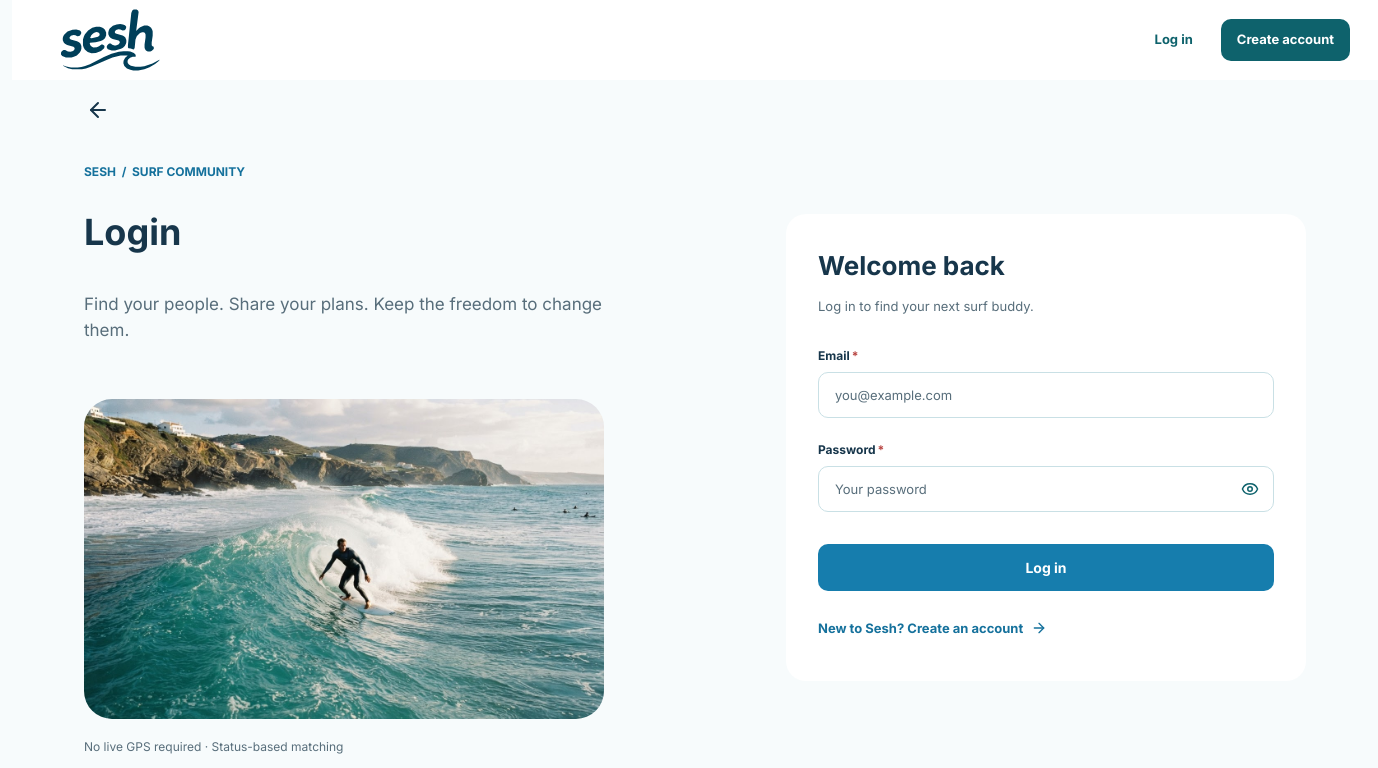
Test: Login page › users without a surfer profile go to Create Profile after login (also with returnTo)
Check: the heading "Welcome back" is shown, box x1=818 y1=250 x2=1005 y2=281
Type "surfer@example.com" into the field labelled "Email*" at (1046, 395), box x1=818 y1=372 x2=1274 y2=418
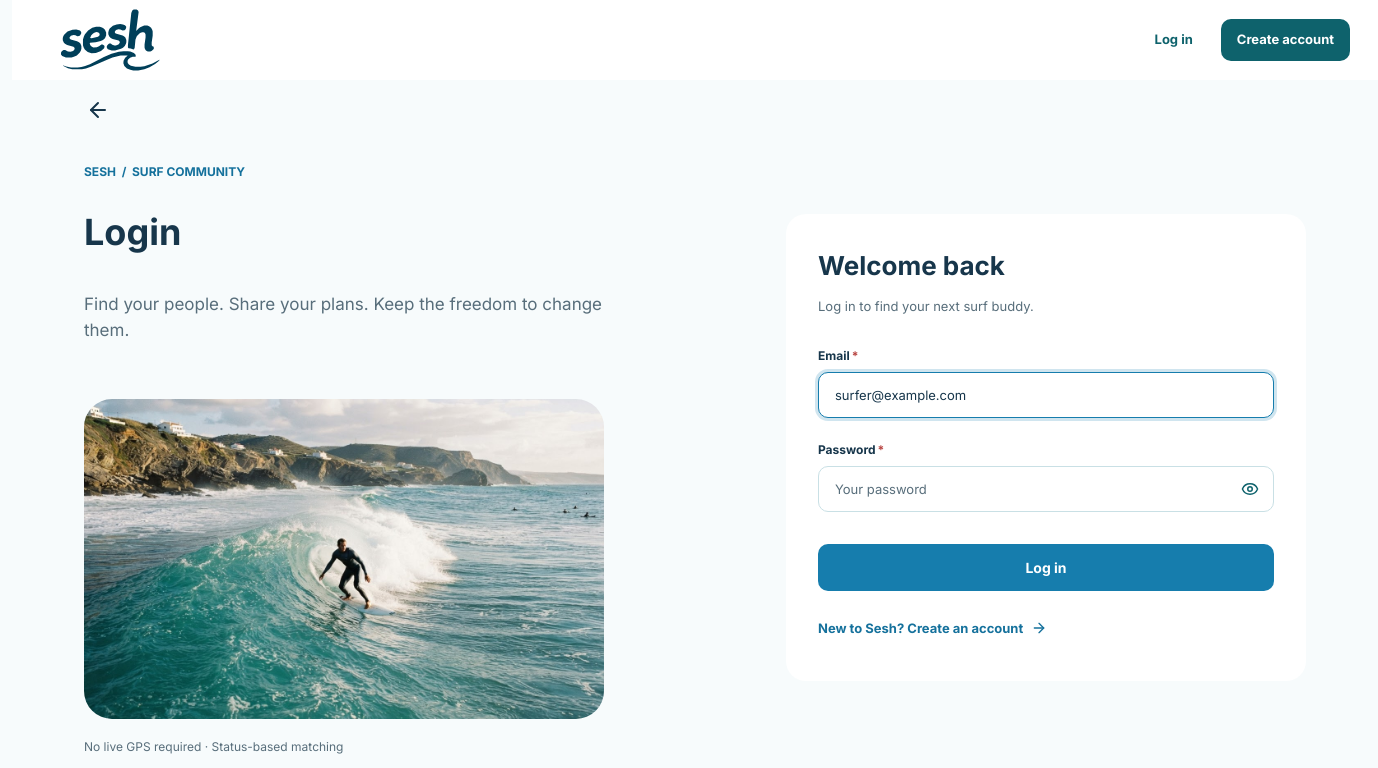
Type "correct horse battery" into the password field labelled "Password*" at (1046, 489), box x1=818 y1=466 x2=1274 y2=512
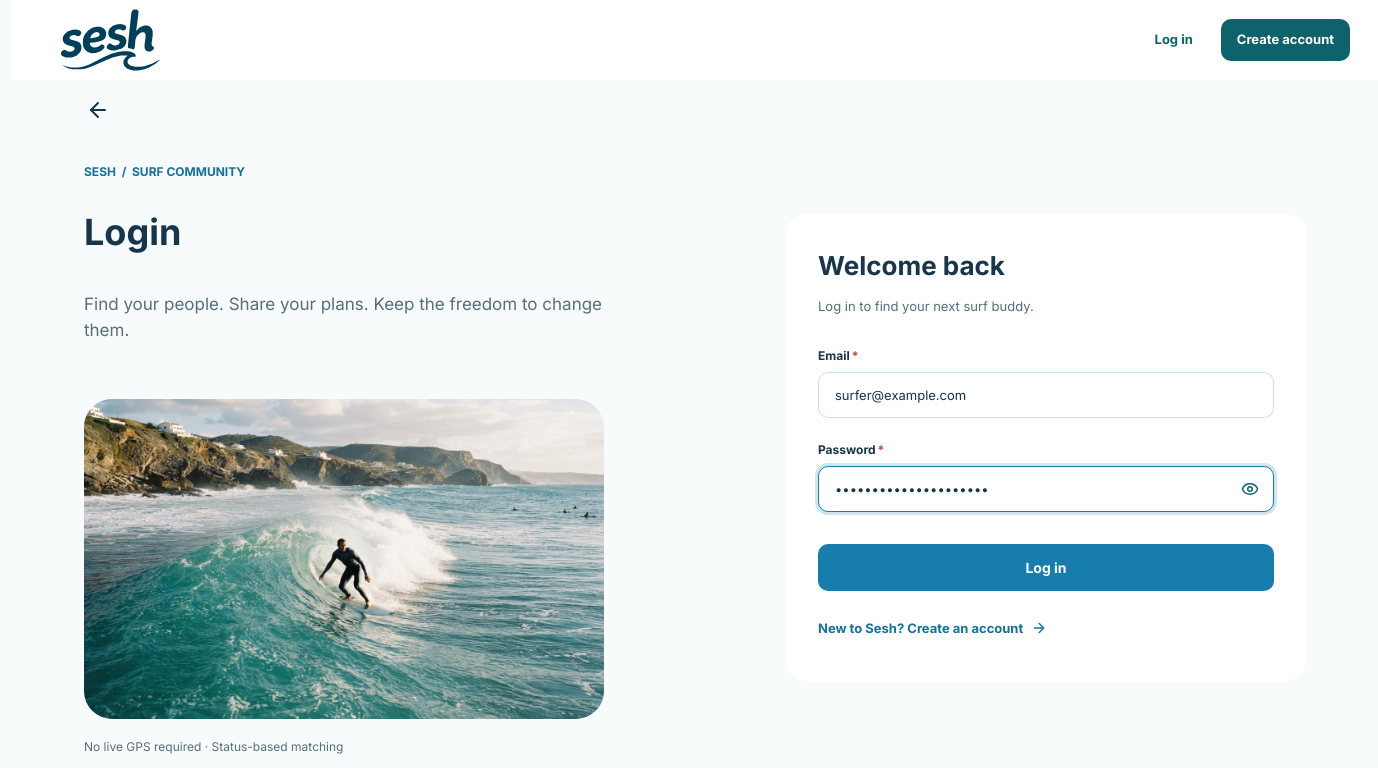
Click the button "Log in" at (1046, 568), box x1=818 y1=544 x2=1274 y2=591
(page scrolled)
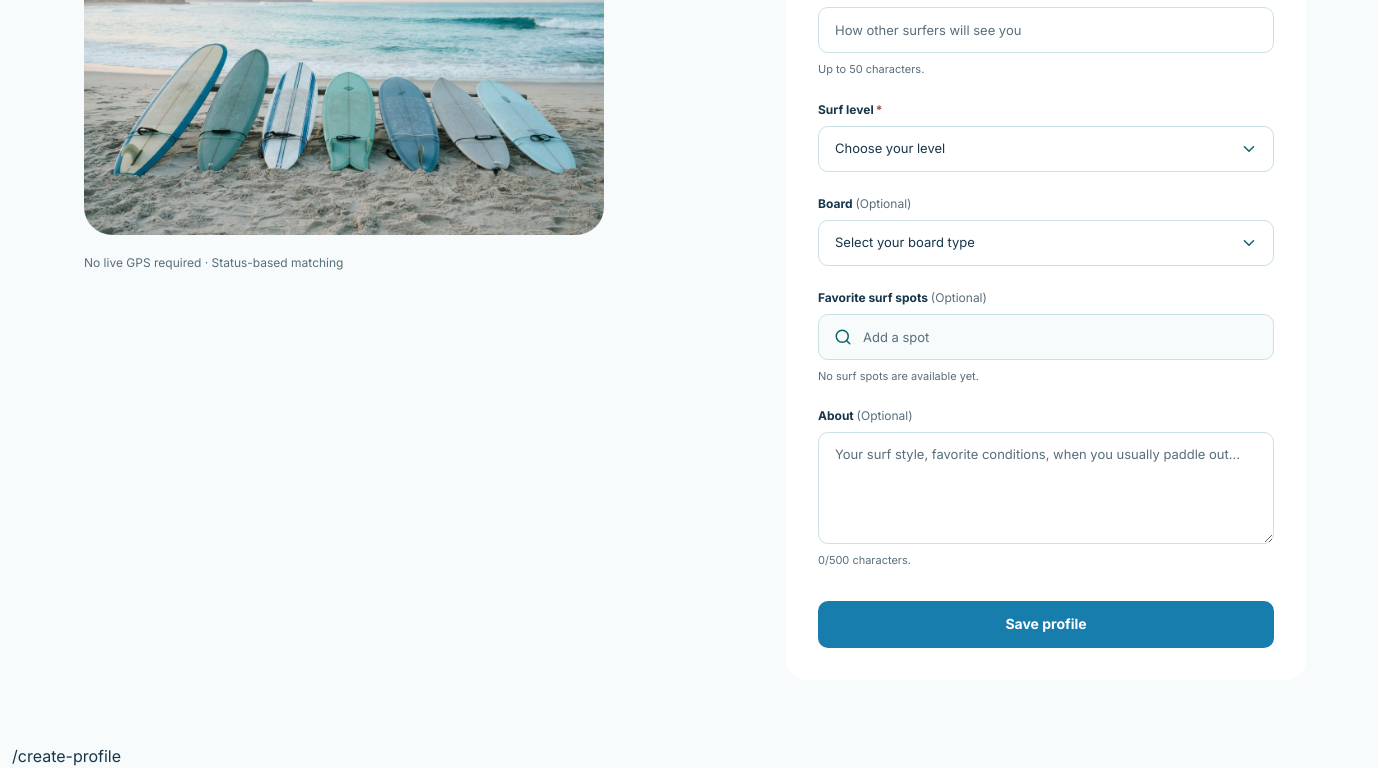
Check: the text with test id "location" reads "/create-profile", box x1=12 y1=746 x2=121 y2=766
